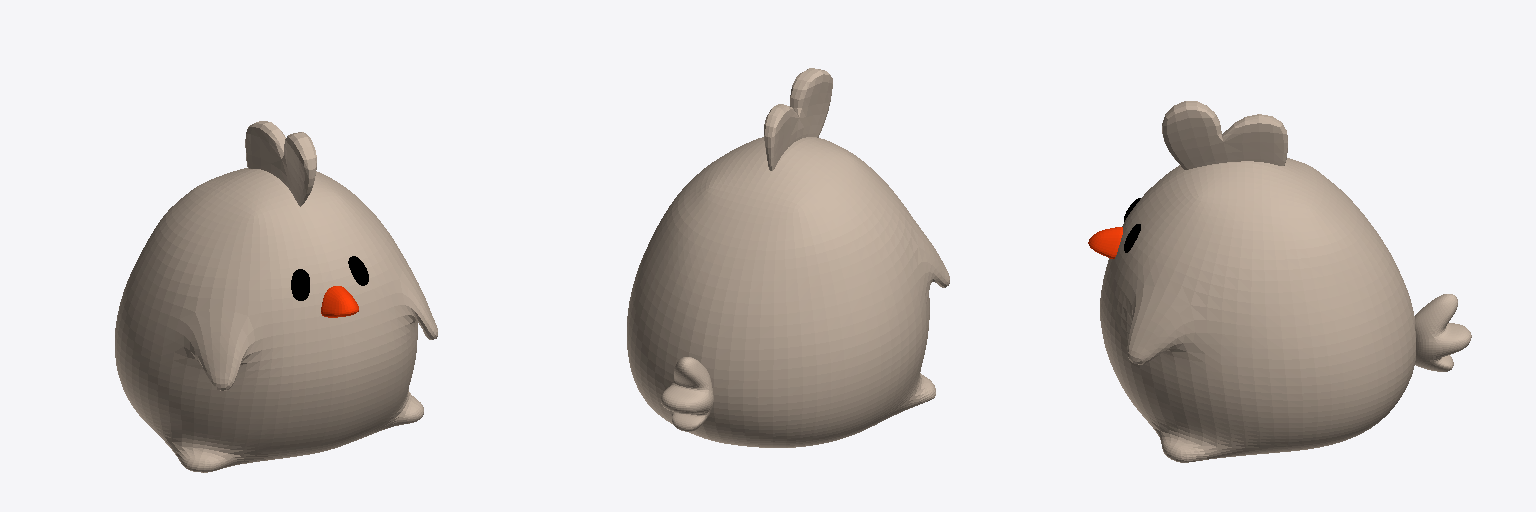
The picture shows the model from 3 angles: view 1: azimuth 30°, elevation 25°; view 2: azimuth 150°, elevation 25°; view 3: azimuth 270°, elevation 25°; orthographic projection.
Parts seen in each view (by area): view 1: ChickenLittle; view 2: ChickenLittle; view 3: ChickenLittle.
Part boxes in pixels (x1,y1,x2,y2): ChickenLittle: (115, 121, 437, 472); ChickenLittle: (627, 68, 949, 447); ChickenLittle: (1088, 101, 1471, 462).
Size of the model in its own units: 0.3054 by 0.3461 by 0.393.